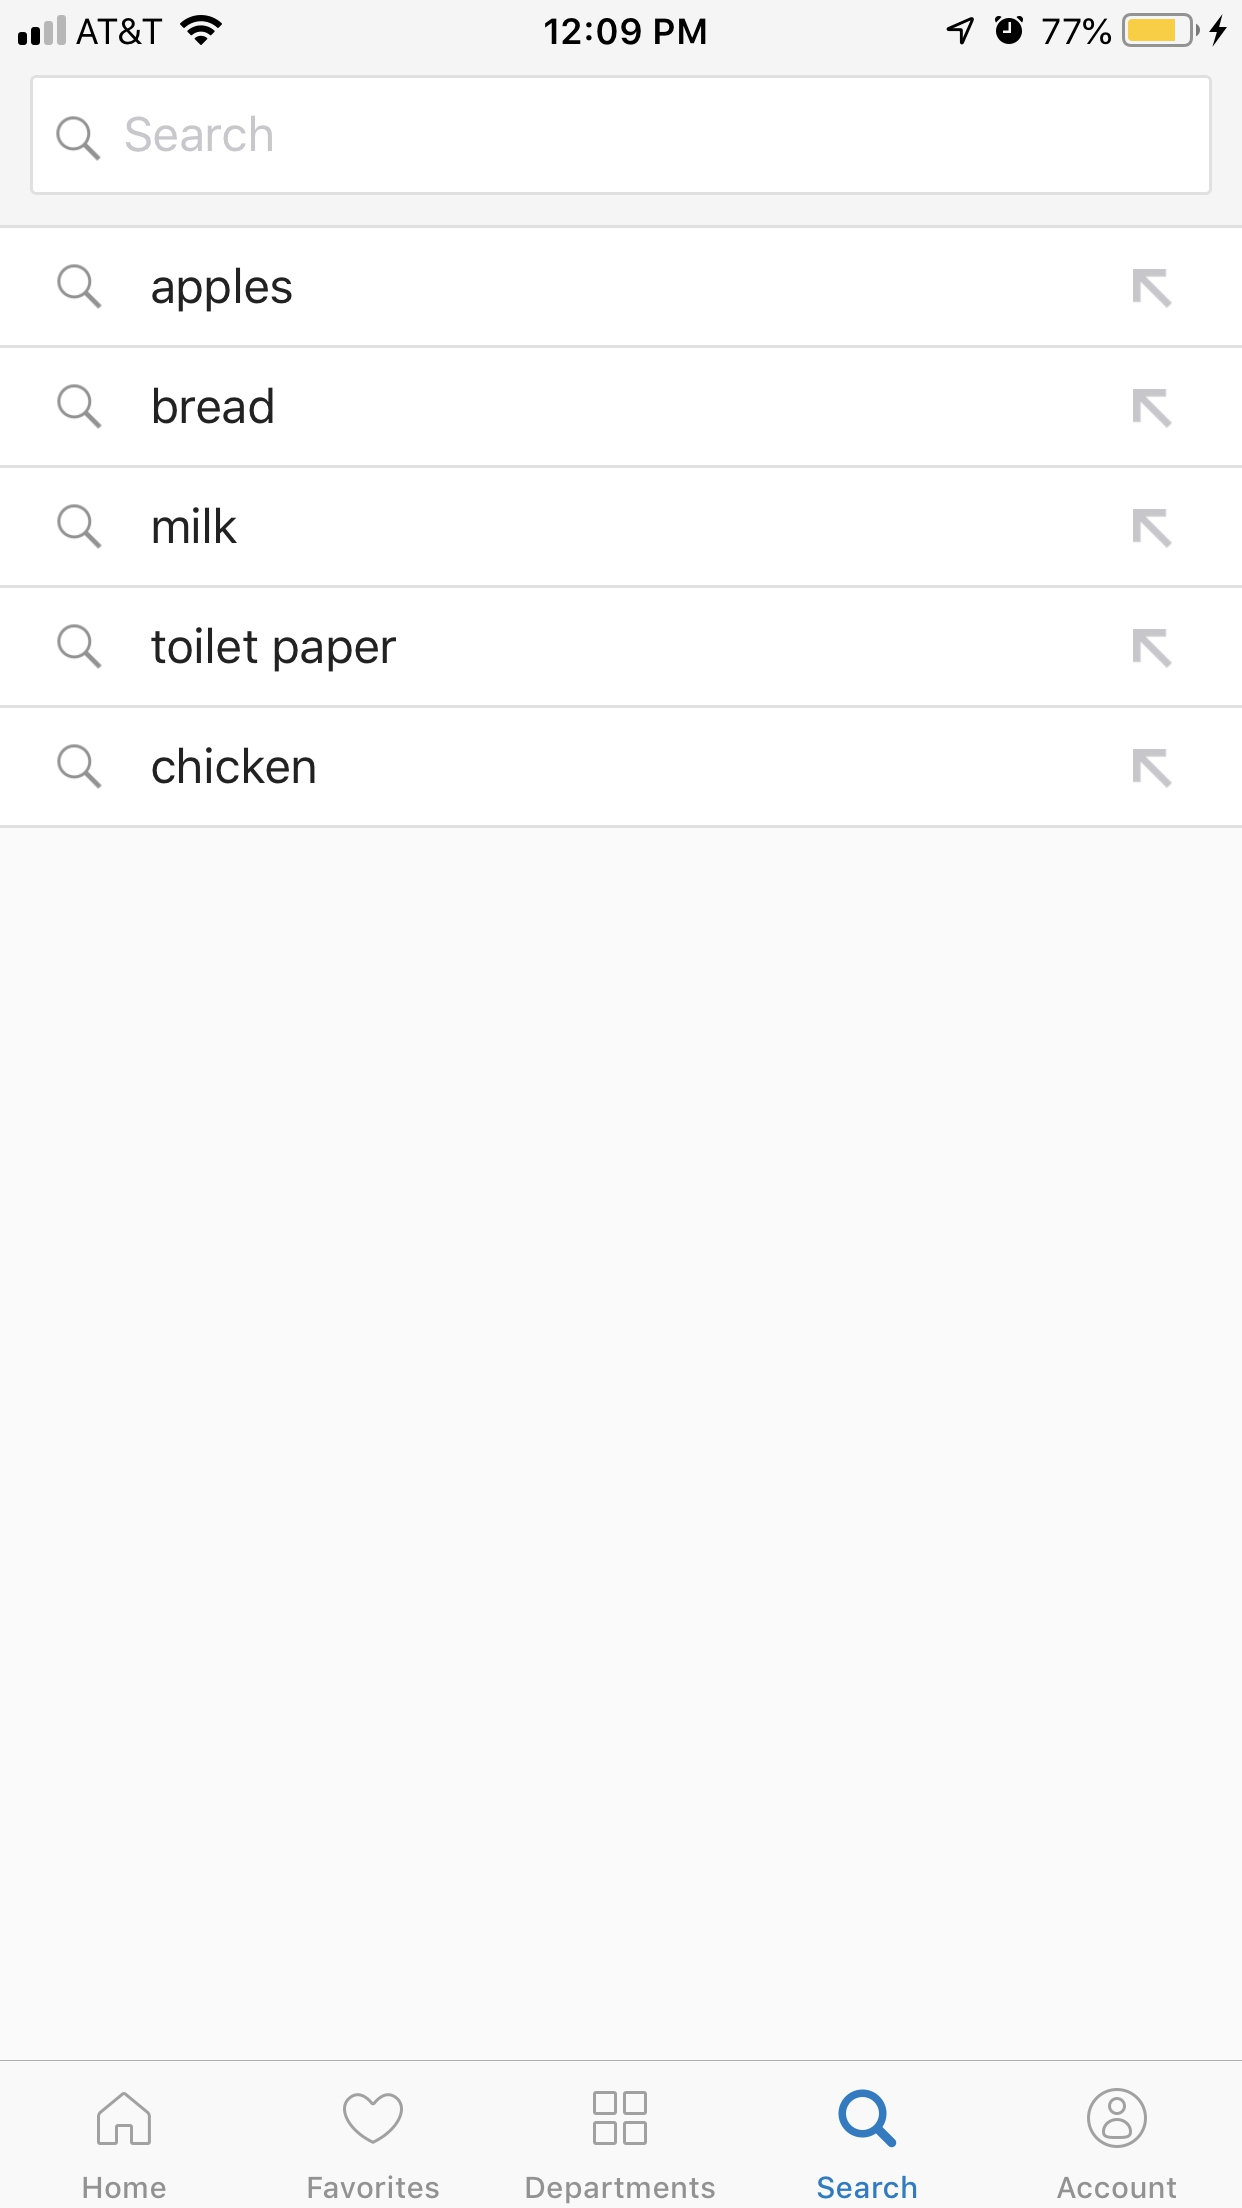EditText: (30, 74, 1213, 196)
Icon: (1087, 2088, 1148, 2149), (839, 2088, 898, 2147), (343, 2093, 403, 2144), (593, 2091, 648, 2146), (97, 2093, 153, 2146), (58, 623, 105, 670), (58, 503, 105, 550), (58, 384, 103, 431), (58, 264, 103, 311), (56, 115, 102, 162), (58, 745, 103, 790), (1133, 268, 1174, 309), (1133, 749, 1174, 789), (1133, 629, 1174, 669), (1133, 510, 1174, 549), (1133, 390, 1174, 429)
Text: (152, 626, 397, 673), (152, 267, 293, 312), (153, 748, 317, 786), (126, 115, 273, 153), (526, 2176, 716, 2203), (153, 387, 274, 426), (153, 507, 238, 544), (308, 2175, 440, 2199), (1057, 2176, 1177, 2199), (817, 2175, 917, 2199), (83, 2176, 167, 2199)
UpperTaskBar: (2, 2, 1242, 49)
